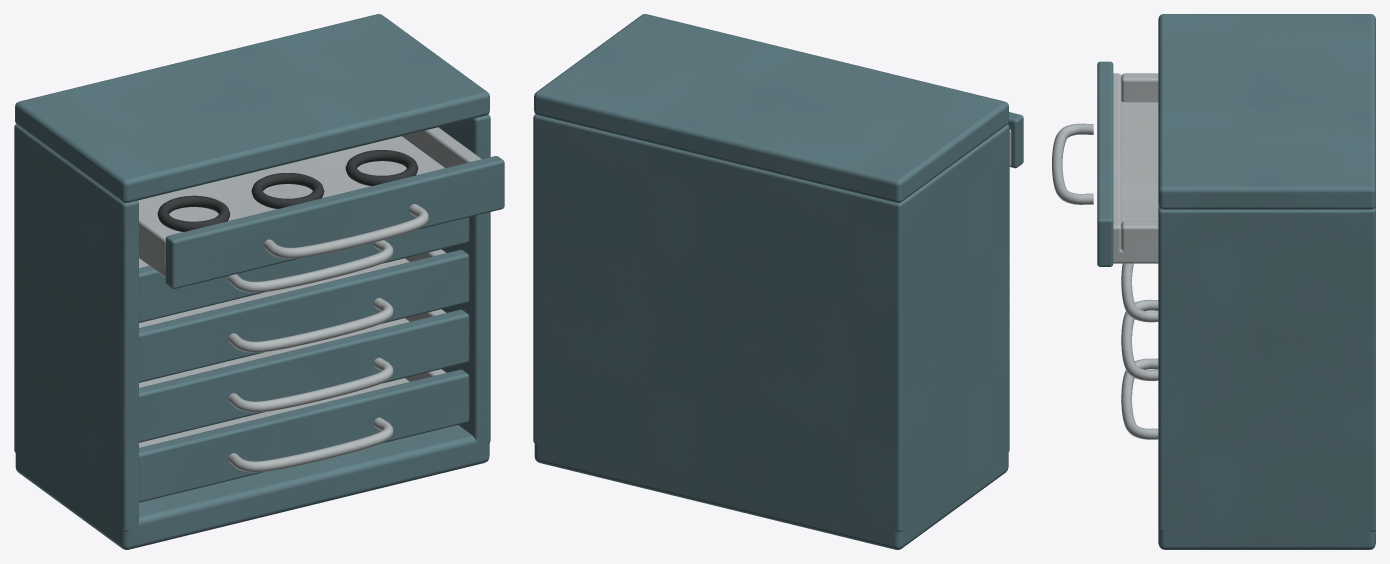
The model's file is gorgehold-survivor-gallery-and-operations-seal-and-gas-ee806fde__32866.glb.
The picture shows the model from 3 angles, left to right: view 1: azimuth 30°, elevation 25°; view 2: azimuth 150°, elevation 25°; view 3: azimuth 270°, elevation 25°; orthographic projection.
Parts seen in each view (by area): view 1: seal-and-gasket-drawer-cabinet; view 2: seal-and-gasket-drawer-cabinet; view 3: seal-and-gasket-drawer-cabinet.
Part boxes in pixels (x1=…): seal-and-gasket-drawer-cabinet: x1=14, y1=14, x2=504, y2=549; seal-and-gasket-drawer-cabinet: x1=533, y1=14, x2=1023, y2=549; seal-and-gasket-drawer-cabinet: x1=1052, y1=14, x2=1375, y2=549.
Bounding box in the file's own units: 0.9 × 0.8675 × 0.7001.
Materials: 3 (2 with a texture image).
